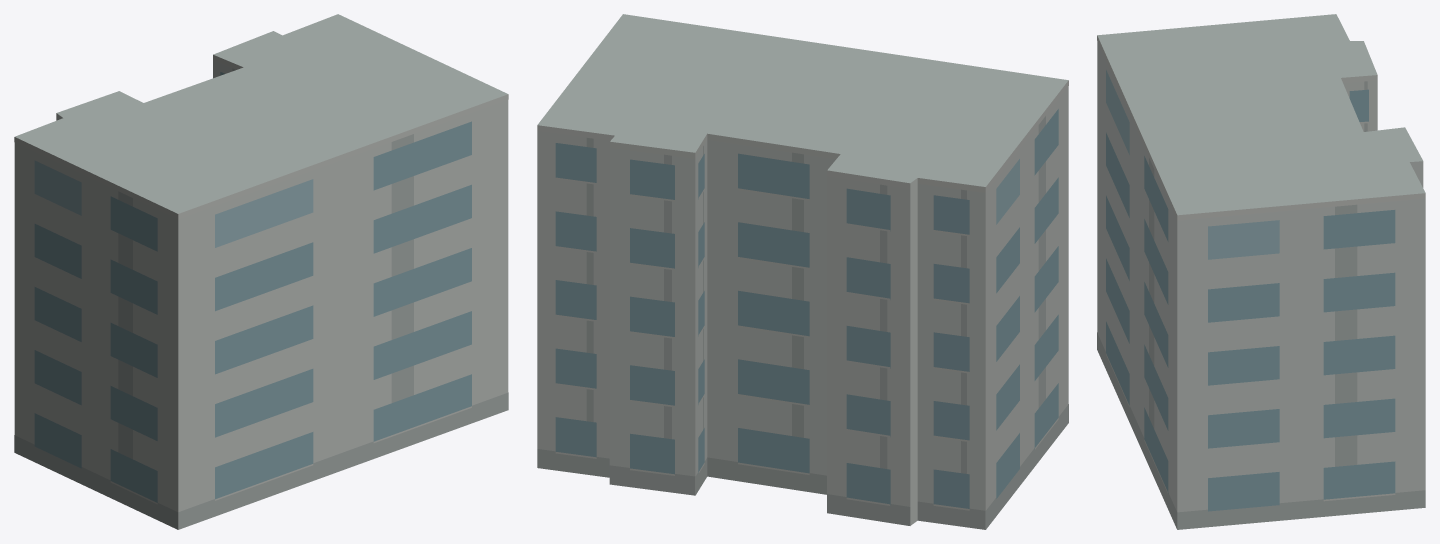
Rendered from survey-upis-32923828.glb.
3 views of the same model, side by side, from view 1: azimuth 30°, elevation 25°; view 2: azimuth 150°, elevation 25°; view 3: azimuth 270°, elevation 25° (orthographic). The views are drawn at different scales.
Parts seen in each view (by area): view 1: survey-upis-32923828.tmp; view 2: survey-upis-32923828.tmp; view 3: survey-upis-32923828.tmp.
Part boxes in pixels (bbox=[...]): survey-upis-32923828.tmp: bbox=[14, 14, 508, 529]; survey-upis-32923828.tmp: bbox=[537, 14, 1068, 529]; survey-upis-32923828.tmp: bbox=[1097, 14, 1425, 529].
Size of the model in its own units: 19.28 by 14.05 by 13.3.
